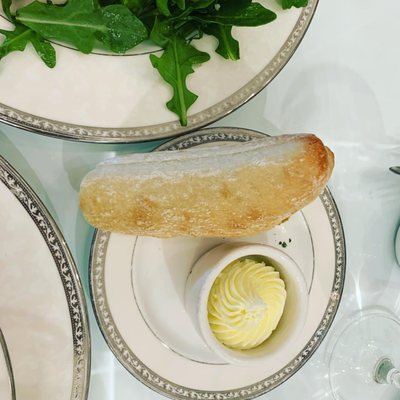sushi: (1, 0, 321, 142)
